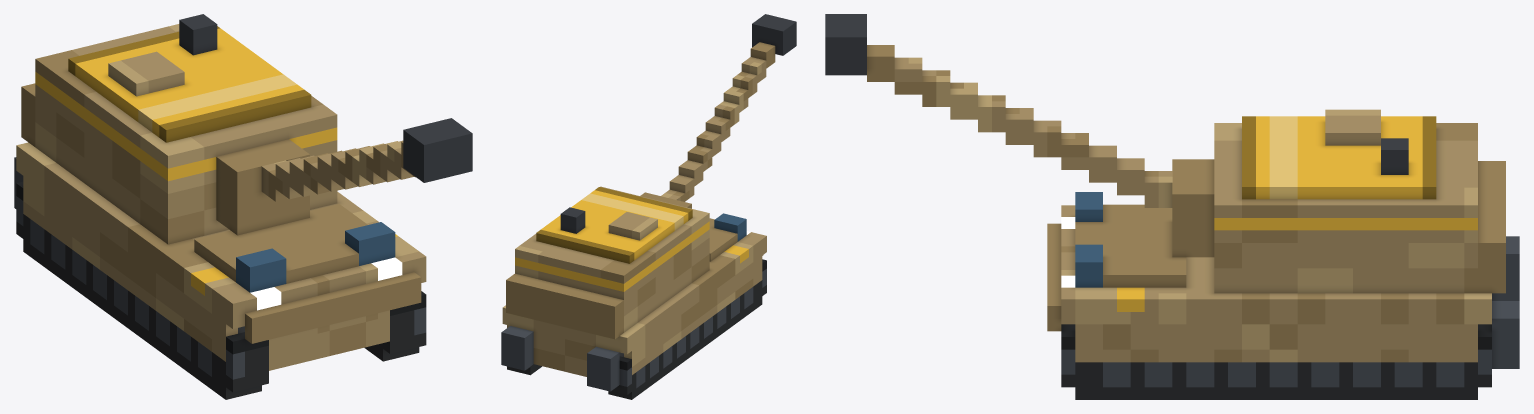
File: cm_artillery_2.glb
3 renders of one model, left to right at view 1: azimuth 30°, elevation 25°; view 2: azimuth 150°, elevation 25°; view 3: azimuth 270°, elevation 25°, orthographic. The views are drawn at different scales.
Parts seen in each view (by area): view 1: cm_artillery_2_body; view 2: cm_artillery_2_body; view 3: cm_artillery_2_body.
Boxes of the visible parts, bbox=[...] form: cm_artillery_2_body: bbox=[14, 14, 472, 399]; cm_artillery_2_body: bbox=[501, 14, 796, 399]; cm_artillery_2_body: bbox=[825, 14, 1519, 399].
Bounding box in the file's own units: 1 × 1.62 × 3.12.
1 material, 1 textured.
